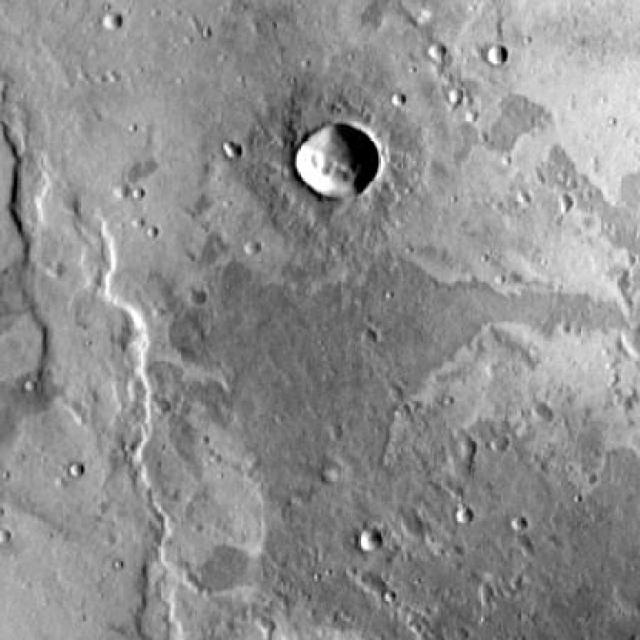crater: (294, 126, 375, 200), (607, 322, 640, 351), (390, 519, 416, 544), (360, 530, 382, 552), (525, 404, 546, 424), (103, 13, 123, 32), (454, 440, 474, 458), (488, 50, 507, 67), (452, 508, 471, 524), (404, 627, 427, 640), (510, 514, 527, 531), (490, 437, 508, 452), (430, 45, 447, 60), (68, 462, 84, 476)
